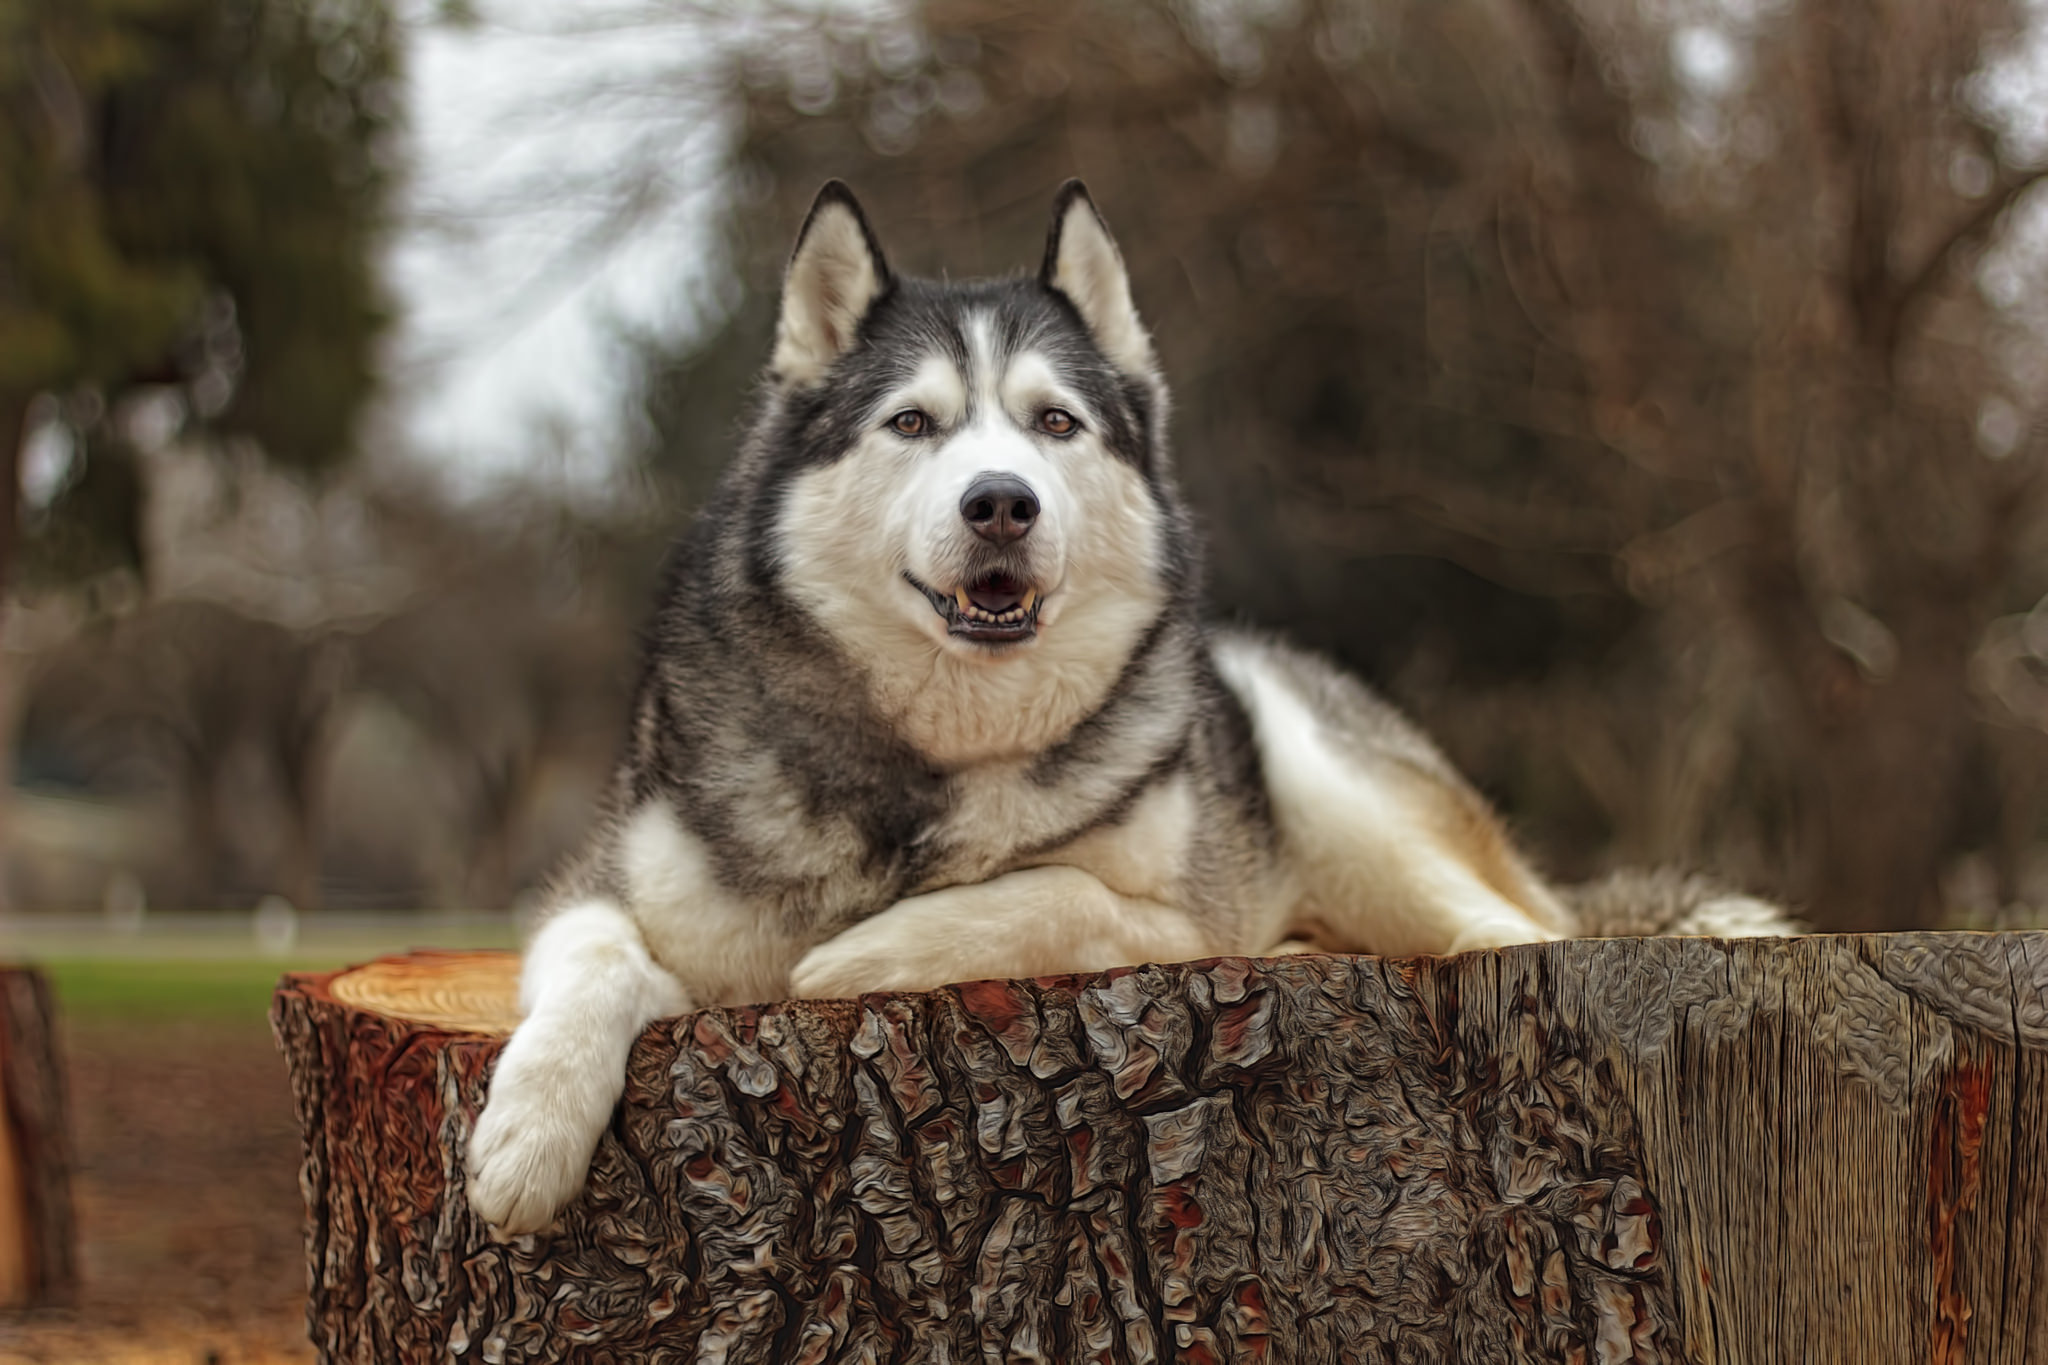husky: (550, 97, 1258, 1027)
